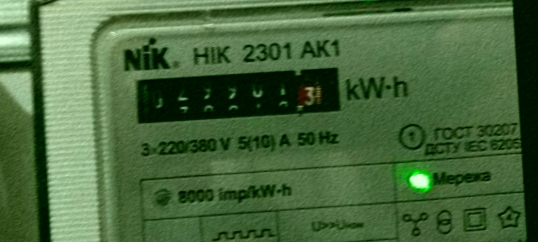0: (249, 75, 265, 101), (149, 88, 166, 110)
1: (274, 74, 289, 98)
2: (174, 83, 191, 103)
3: (302, 84, 316, 106)
9: (224, 78, 240, 101), (199, 80, 213, 103)
screen: (122, 57, 352, 134)
